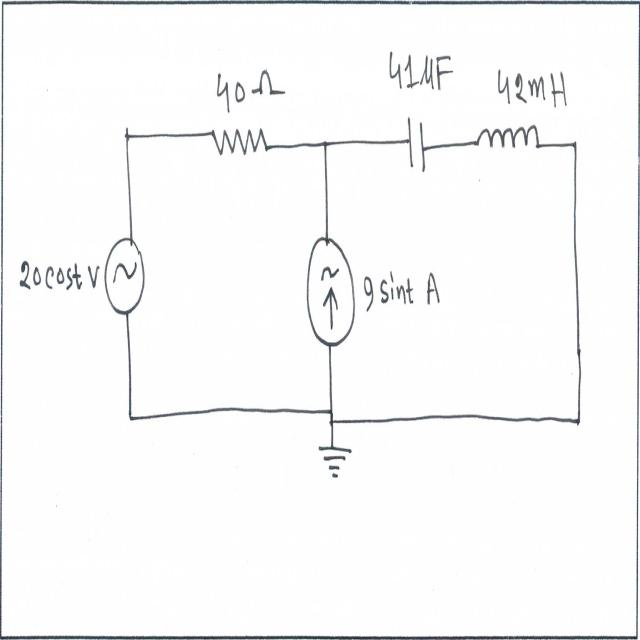ac_current: (102, 225, 151, 328)
capacitor: (401, 114, 430, 182)
current_source: (301, 229, 358, 354)
ground: (315, 438, 357, 484)
inductor: (468, 122, 542, 160)
resistor: (208, 120, 272, 166)
